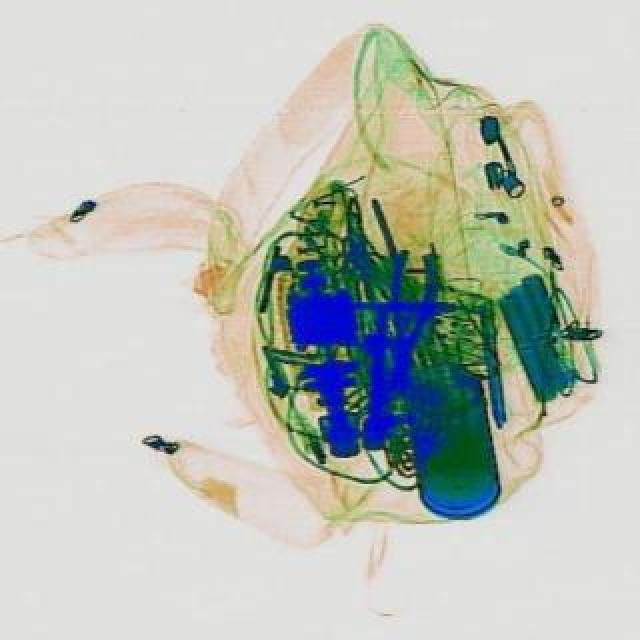wrench: (370, 246, 440, 392)
